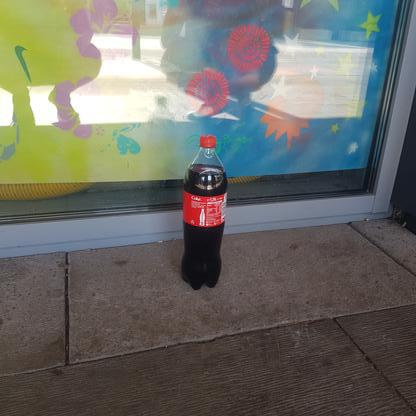coca-cola: (180, 133, 228, 291)
